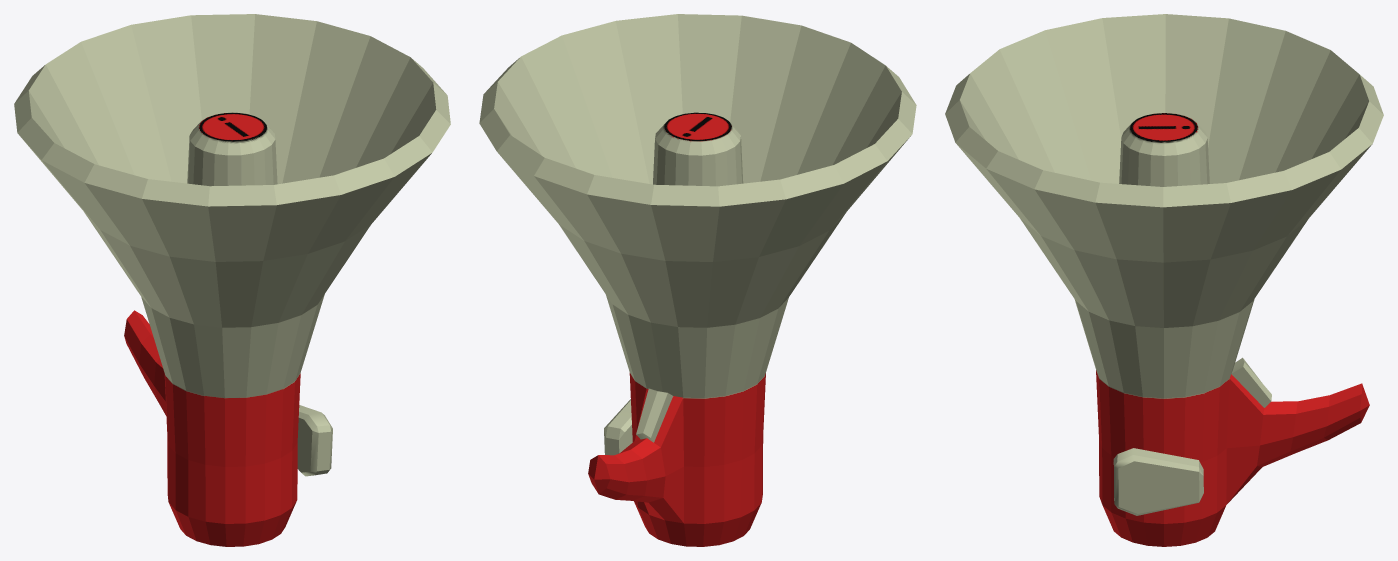
File: Megaphone.fbx
3 views of the same model, side by side, from view 1: azimuth 30°, elevation 25°; view 2: azimuth 150°, elevation 25°; view 3: azimuth 270°, elevation 25° (orthographic).
Parts seen in each view (by area): view 1: pCylinder2; view 2: pCylinder2; view 3: pCylinder2.
Boxes of the visible parts, x1,y1,x2,y2 form: pCylinder2: (14,14,450,546); pCylinder2: (479,14,916,546); pCylinder2: (945,14,1383,546).
Bounding box in the file's own units: 1.34 × 1.43 × 1.34.
